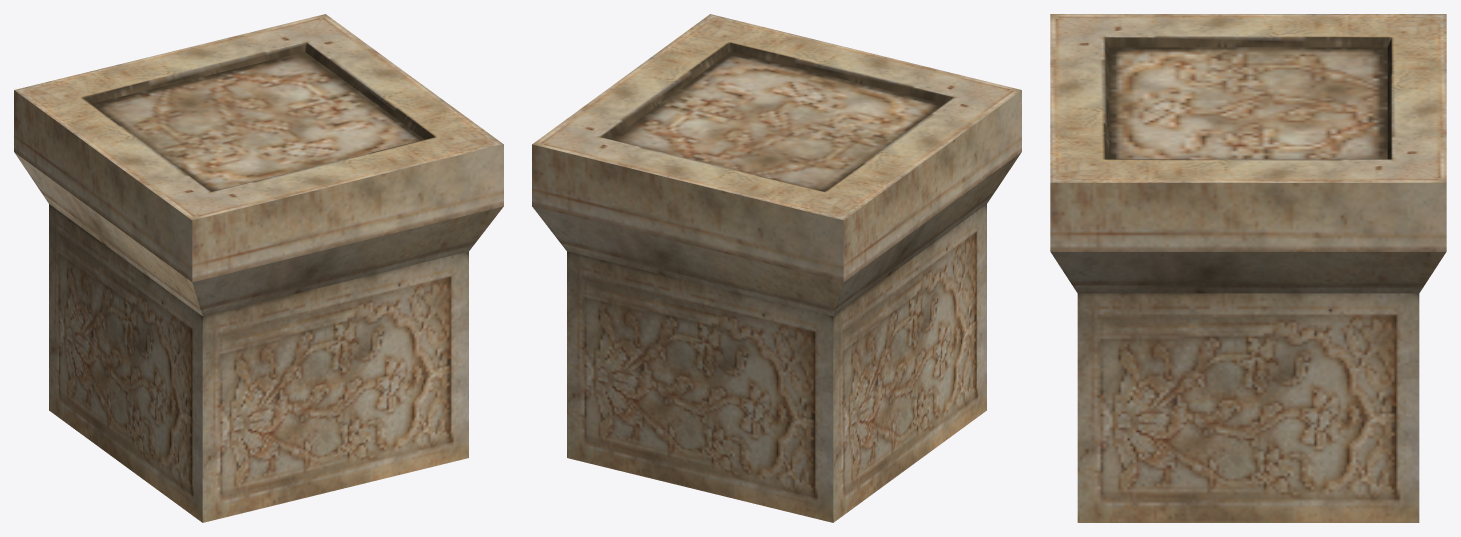
Rendered from map_structure.glb.
3 renders of one model, left to right at view 1: azimuth 30°, elevation 25°; view 2: azimuth 150°, elevation 25°; view 3: azimuth 270°, elevation 25°, orthographic. The views are drawn at different scales.
Visible parts, largest first — view 1: psx_puzzle_base; view 2: psx_puzzle_base; view 3: psx_puzzle_base.
Boxes of the visible parts, x1,y1,x2,y2 form: psx_puzzle_base: [14, 14, 503, 522]; psx_puzzle_base: [532, 14, 1021, 522]; psx_puzzle_base: [1050, 14, 1446, 522].
Size of the model in its own units: 1.11 by 1.08 by 1.1.
1 material, 1 textured.
